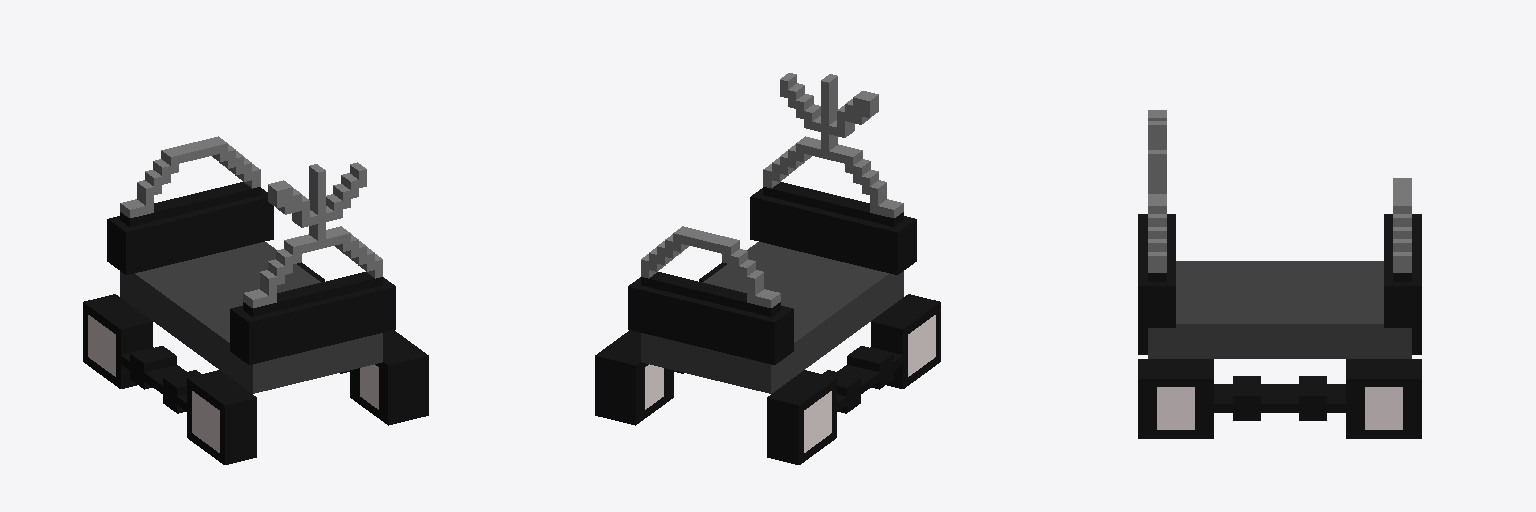
The picture shows the model from 3 angles: view 1: azimuth 30°, elevation 25°; view 2: azimuth 150°, elevation 25°; view 3: azimuth 270°, elevation 25°; orthographic projection.
Parts seen in each view (by area): view 1: object 1; view 2: object 1; view 3: object 1.
Boxes of the visible parts, x1=… form: object 1: x1=83, y1=136, x2=428, y2=464; object 1: x1=595, y1=73, x2=940, y2=464; object 1: x1=1138, y1=110, x2=1421, y2=438.
Bounding box in the file's own units: 2.5 × 3.1 × 3.
1 materials, 1 textured.